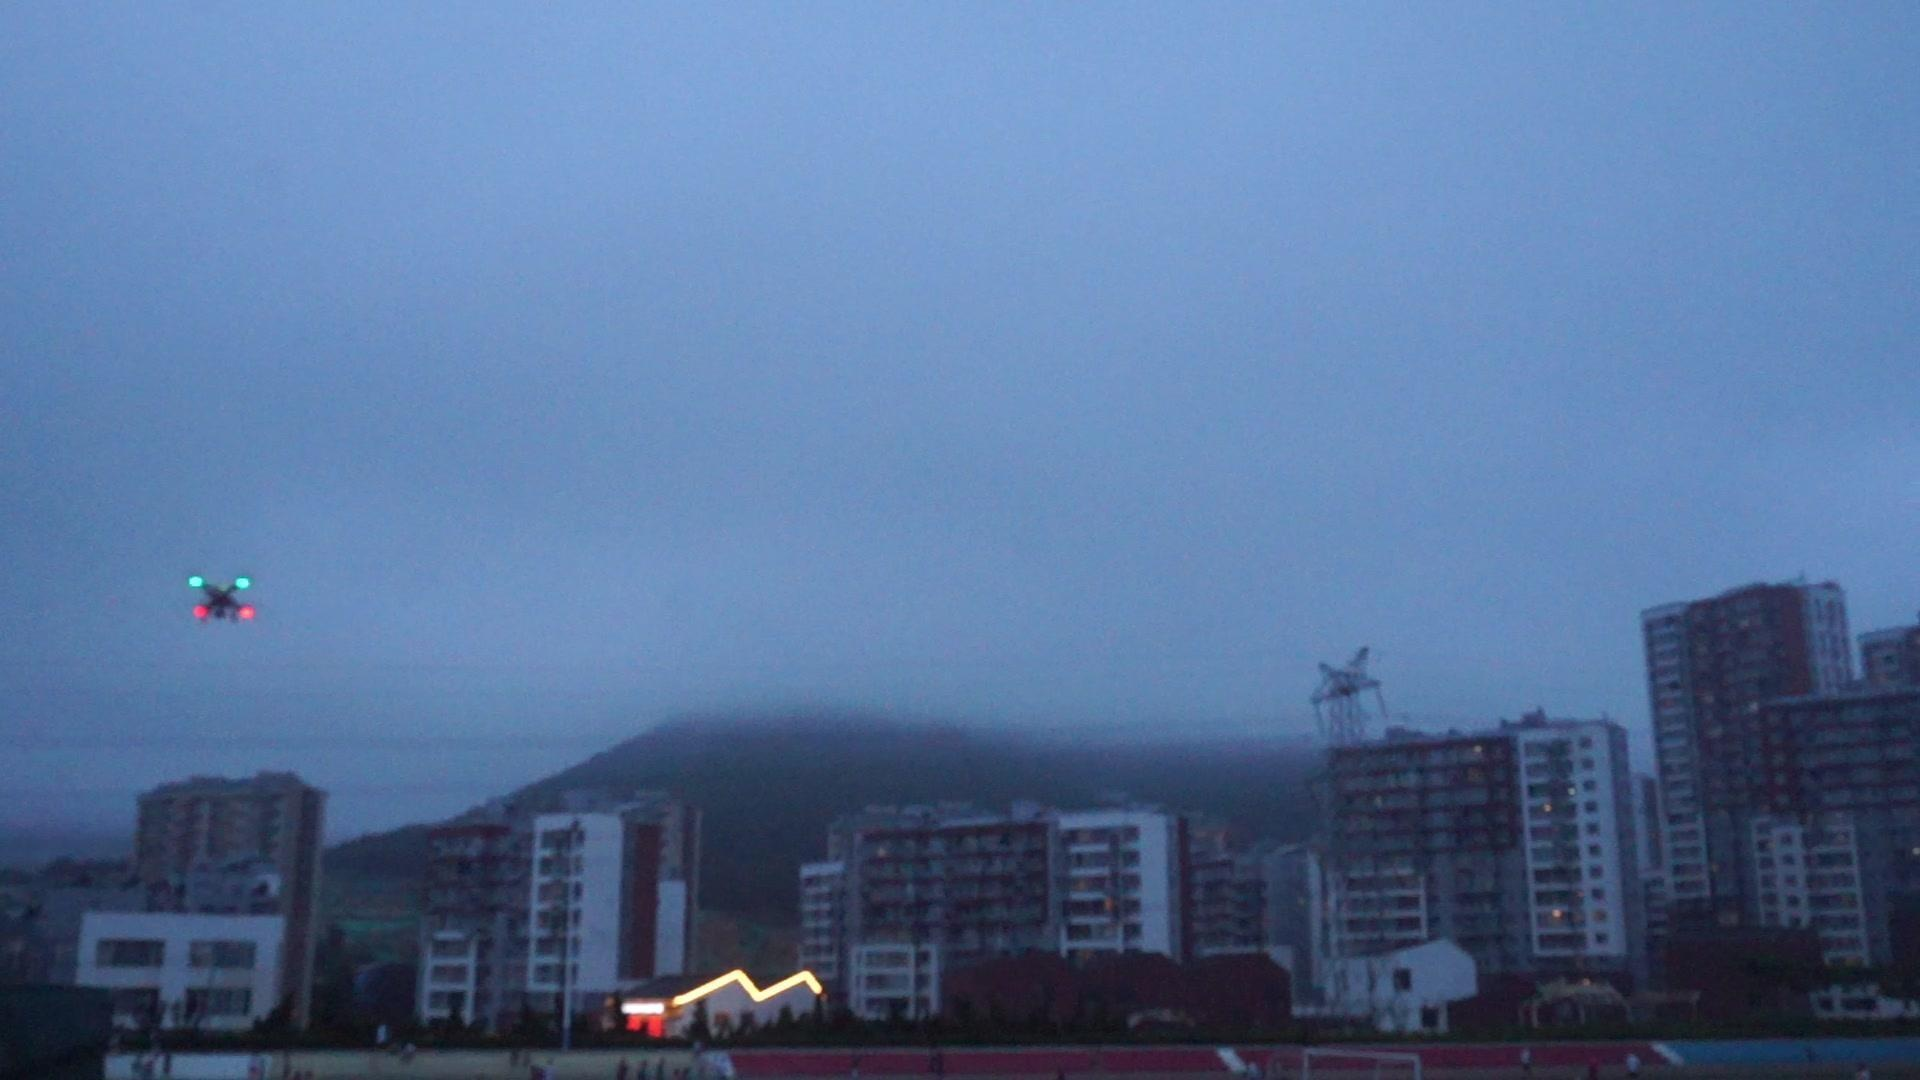UAV: (189, 578, 257, 624)
